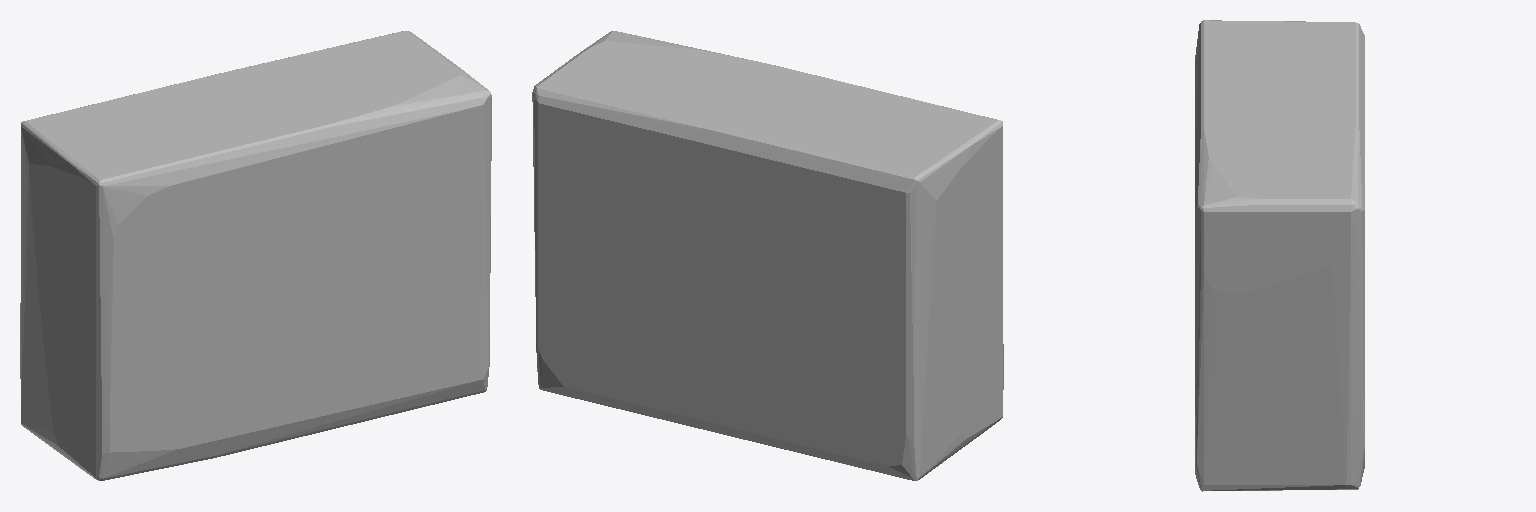
The robot description file, URDF, robot "root":
<robot name="root">
  <link name="link_coacd_convex_piece_0">
    <inertial>
      <origin xyz="0 0 0" rpy="0 0 0"/>
      <inertia ixx="1.29E-01" ixy="-1.13E-04" ixz="-5.53E-04" iyy="2.84E-01" iyz="-2.09E-06" izz="2.11E-01"/>
    </inertial>
    <visual>
      <origin xyz="0 0 0" rpy="0 0 0"/>
      <geometry>
        <mesh filename="coacd_convex_piece_0.obj" scale="1.0000E+00 1.0000E+00 1.0000E+00"/>
      </geometry>
      <material name="">
        <color rgba="7.50E-01 7.50E-01 7.50E-01 1"/>
      </material>
    </visual>
    <collision>
      <origin xyz="0 0 0" rpy="0 0 0"/>
      <geometry>
        <mesh filename="coacd_convex_piece_0.obj" scale="1.0000E+00 1.0000E+00 1.0000E+00"/>
      </geometry>
    </collision>
  </link>
</robot>

--- Facts derived from the render (not from the file) ---
Views: 3 orthographic renders of the robot side by side, from view 1: azimuth 30°, elevation 25°; view 2: azimuth 150°, elevation 25°; view 3: azimuth 270°, elevation 25°.
Model root with 1 links and 0 joints (none), rooted at link_coacd_convex_piece_0, posed all joints at 0.
Visible links, largest first — view 1: link_coacd_convex_piece_0; view 2: link_coacd_convex_piece_0; view 3: link_coacd_convex_piece_0.
Boxes of the visible links, x1,y1,x2,y2 form: link_coacd_convex_piece_0: [20, 31, 491, 480]; link_coacd_convex_piece_0: [532, 31, 1003, 480]; link_coacd_convex_piece_0: [1195, 20, 1364, 491].
Bounding box of the posed robot: 1.54 × 0.6009 × 1.14 m (x, y, z).
1 mesh visuals loaded from 1 distinct referenced files (1 OBJ).